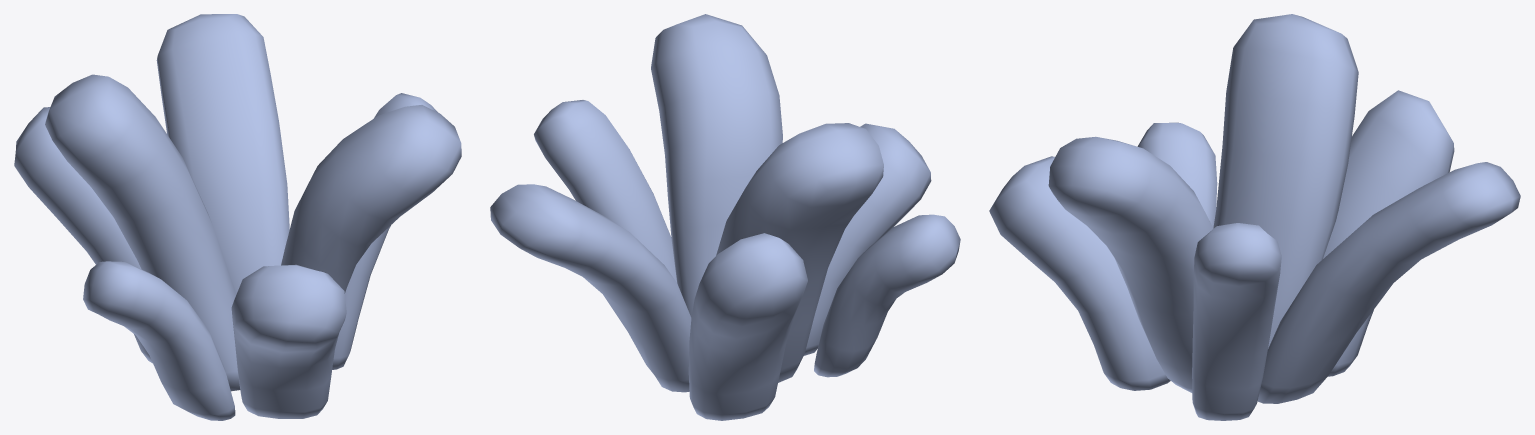
File: Anemone_A_01.fbx
3 views of the same model, side by side, from view 1: azimuth 30°, elevation 25°; view 2: azimuth 150°, elevation 25°; view 3: azimuth 270°, elevation 25° (orthographic). The views are drawn at different scales.
Parts seen in each view (by area): view 1: Anemone_A_01_LOD0; view 2: Anemone_A_01_LOD0; view 3: Anemone_A_01_LOD0.
Part boxes in pixels (left/top/right/bottom): Anemone_A_01_LOD0: left=14, top=14, right=461, bottom=420; Anemone_A_01_LOD0: left=490, top=14, right=960, bottom=420; Anemone_A_01_LOD0: left=989, top=14, right=1520, bottom=420.
Size of what is drawn, in the model's own units: 379 by 280 by 449.
